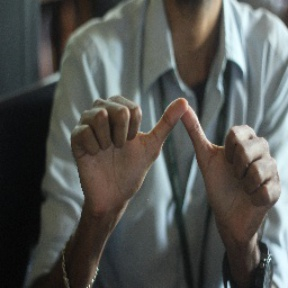A: (78, 88, 272, 211)
